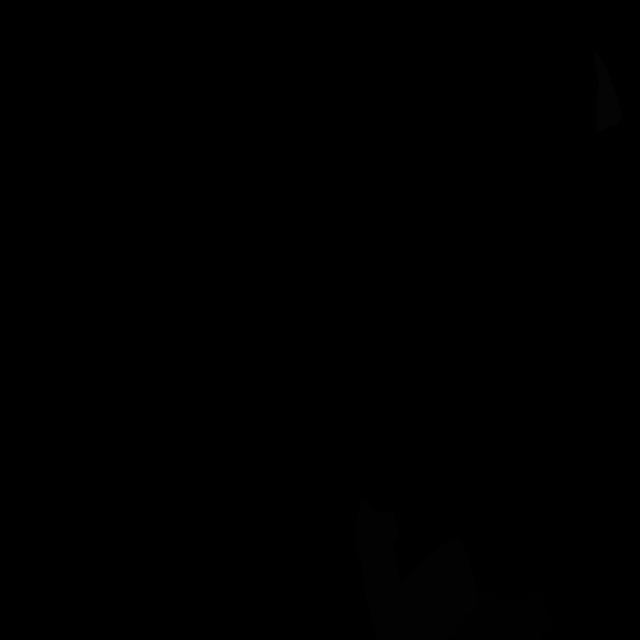cardboard: (354, 500, 478, 640)
rigid_plastic: (450, 587, 551, 640)
soft_plastic: (593, 51, 623, 133)
